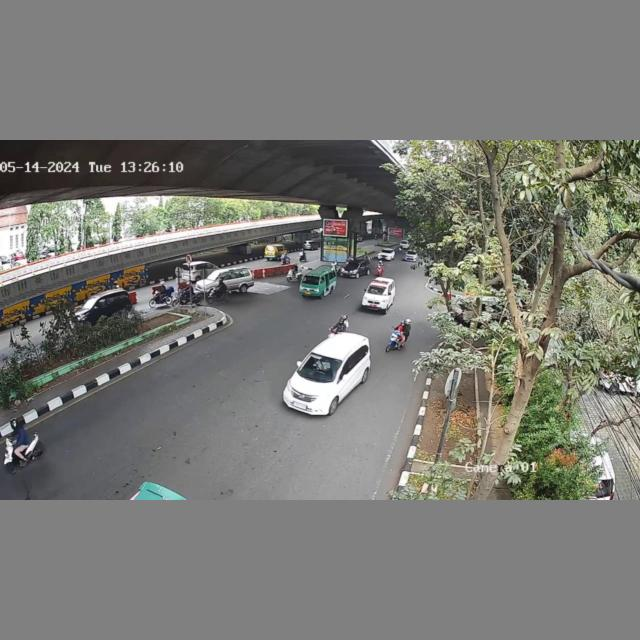windshield: (299, 354, 342, 382), (367, 284, 389, 297), (302, 275, 320, 285)
